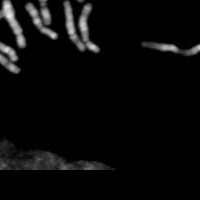chromosome: (24, 1, 57, 38), (140, 36, 200, 56), (63, 0, 85, 51), (2, 0, 25, 48), (78, 3, 99, 53), (0, 6, 18, 61), (0, 31, 20, 74), (39, 0, 53, 25), (59, 0, 85, 3)
